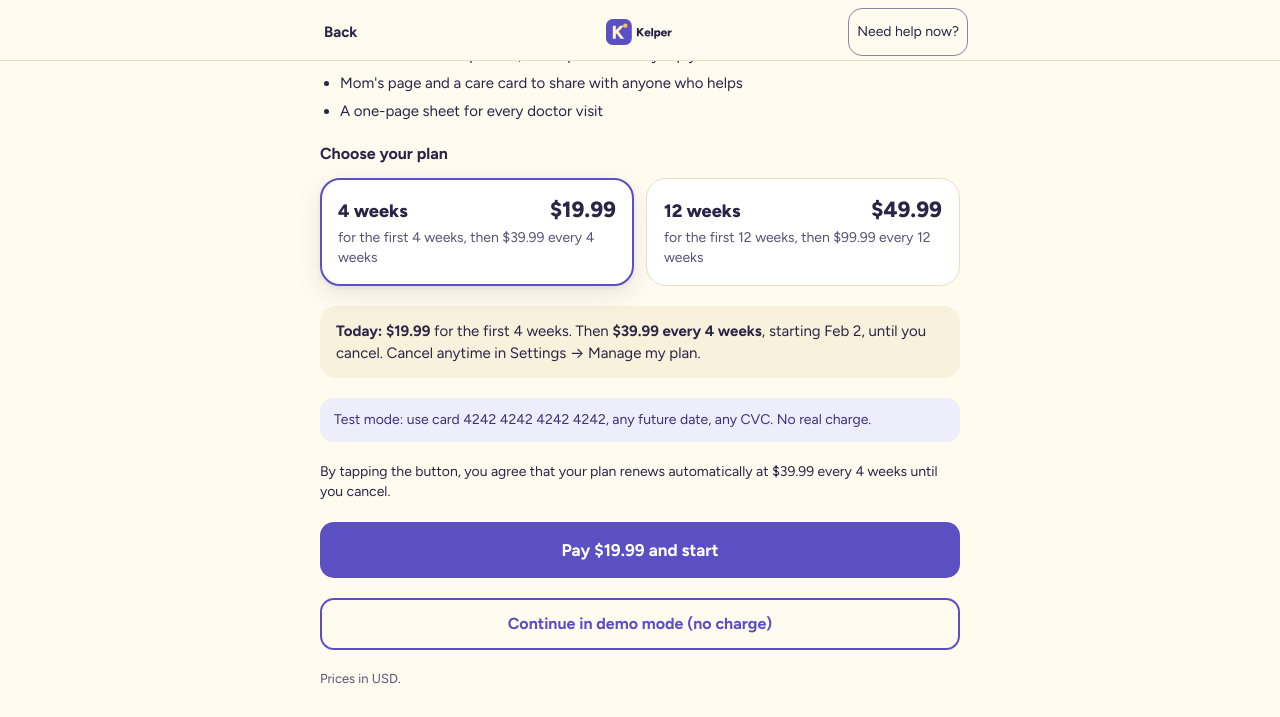
Scenario: fake Stripe journey › Back cancels and returns to the paywall with the canceled banner
(page scrolled)
Click the button "Pay $19.99 and start" at (640, 550), box [320,522,960,578]
(page scrolled)
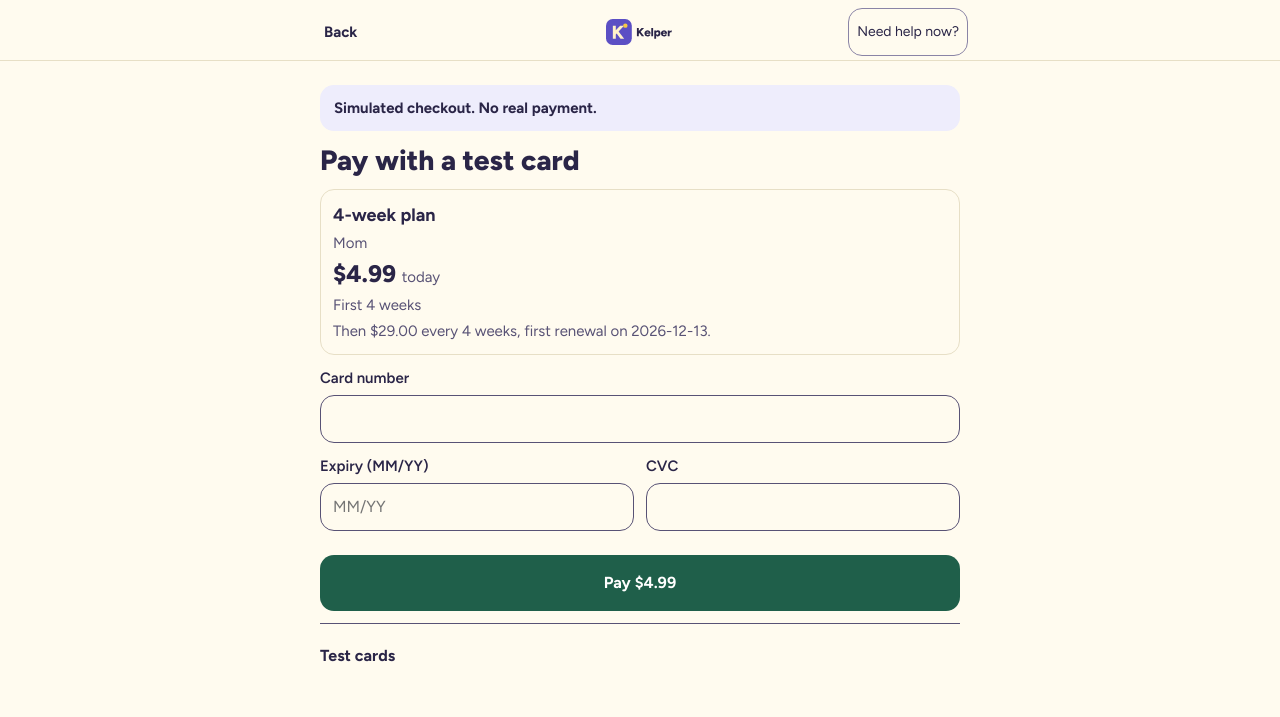
Now the heading "Pay with a test card" is shown, box [320,143,580,177]
Click the button "Back" at (341, 32), box [312,8,369,56]
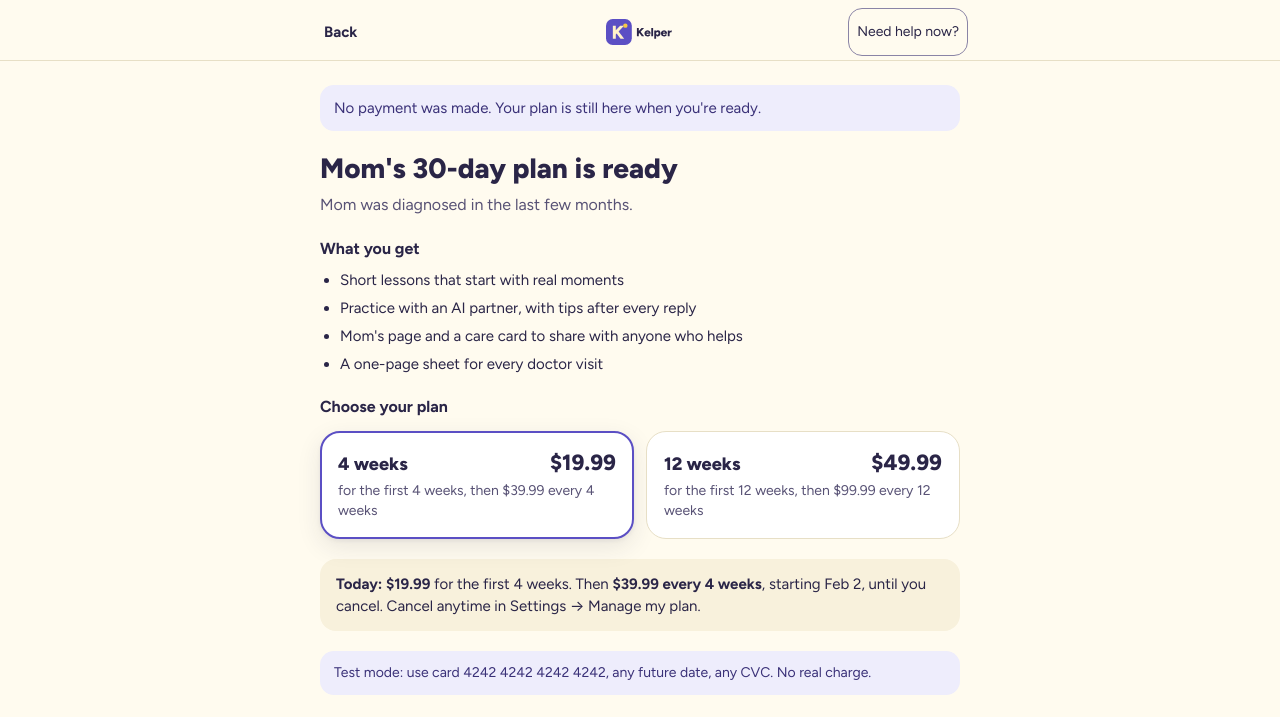
Now the message reads "No payment was made. Your plan is still here when you're ready.", box [334,99,761,117]
